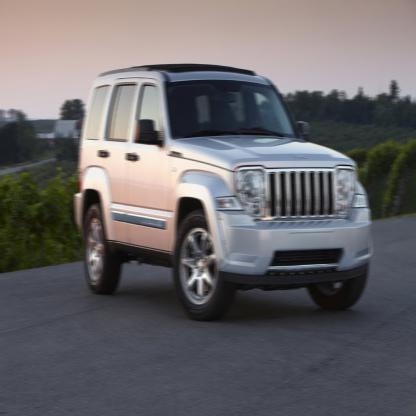Vehicle: (74, 62, 374, 326)
